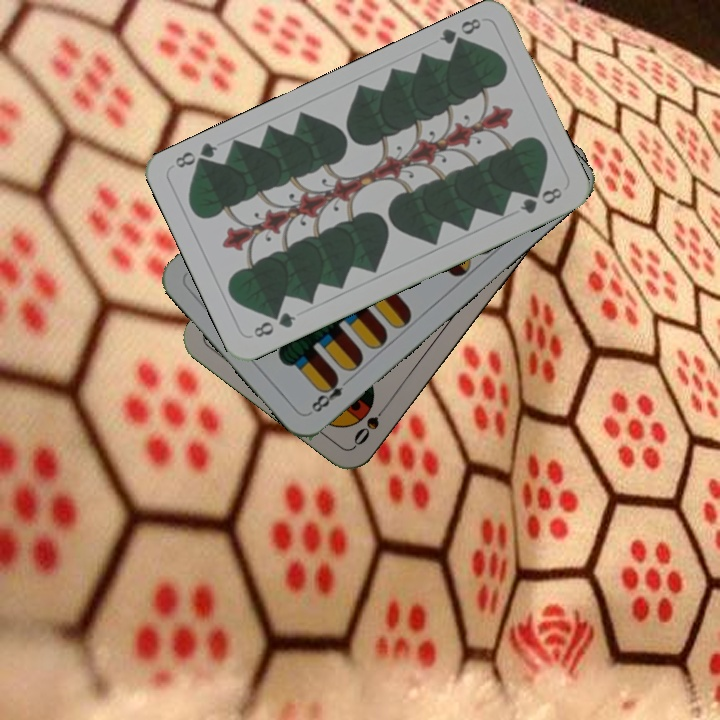E8: (307, 372, 354, 415)
G8: (435, 14, 484, 53), (249, 308, 299, 341)
SO: (349, 398, 393, 448)
